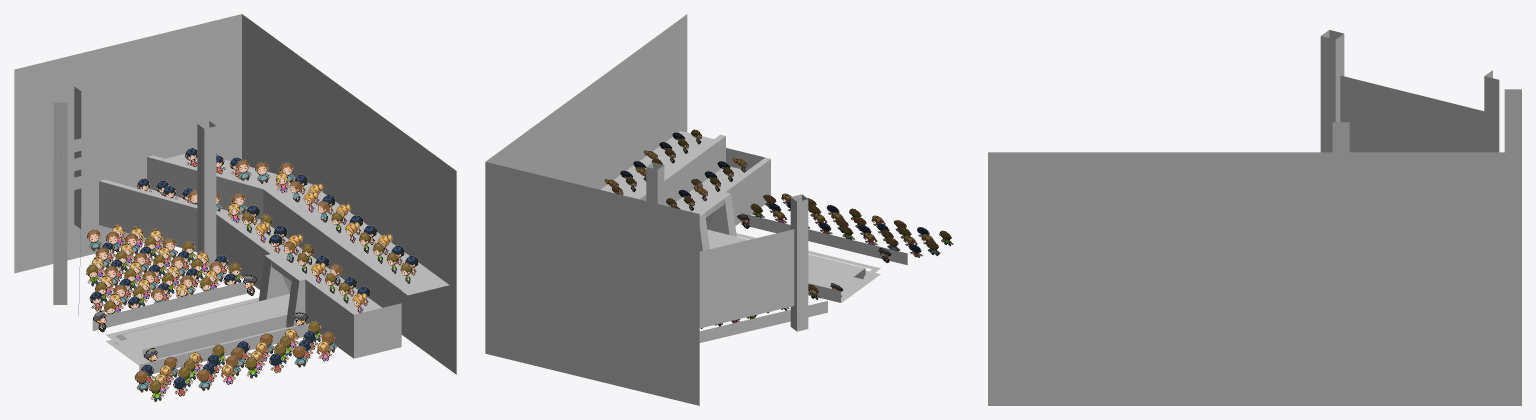
Rendered from PKMN-WT2-1.obj.
The picture shows the model from 3 angles, left to right: view 1: azimuth 30°, elevation 25°; view 2: azimuth 150°, elevation 25°; view 3: azimuth 270°, elevation 25°; orthographic projection. The views are drawn at different scales.
Visible parts, largest first — view 1: in79yuka01_lay0_QUADS_VisGroup0, in79kabe01_lay0_QUADS_VisGroup0, in79_fan1_lay0_QUADS_VisGroup0, in79tou01_lay0_QUADS_VisGroup0, in79yuka02_lay0_QUADS_VisGroup0, in79_fan2_lay0_QUADS_VisGroup0, in79_fan3_lay0_QUADS_VisGroup0, in79light03_lay0_QUADS_VisGroup0, in79saku01_lay0_QUADS_VisGroup0, in79pol_lay0_QUADS_VisGroup0; view 2: in79yuka01_lay0_QUADS_VisGroup0, in79tv_anim1_lay0_QUADS_VisGroup0, in79kabe01_lay0_QUADS_VisGroup0, in79saku01_lay0_QUADS_VisGroup0, in79_fan2_lay0_QUADS_VisGroup0, in79tou01_lay0_QUADS_VisGroup0, in79_fan3_lay0_QUADS_VisGroup0, in79yuka02_lay0_QUADS_VisGroup0; view 3: in79yuka01_lay0_QUADS_VisGroup0, in79tv_anim1_lay0_QUADS_VisGroup0, in79tou01_lay0_QUADS_VisGroup0.
Part boxes in pixels (<box>): in79yuka01_lay0_QUADS_VisGroup0: <box>14,14,456,374</box>; in79kabe01_lay0_QUADS_VisGroup0: <box>99,155,407,358</box>; in79_fan1_lay0_QUADS_VisGroup0: <box>86,148,295,314</box>; in79tou01_lay0_QUADS_VisGroup0: <box>53,86,216,304</box>; in79yuka02_lay0_QUADS_VisGroup0: <box>106,294,305,363</box>; in79_fan2_lay0_QUADS_VisGroup0: <box>134,320,336,402</box>; in79_fan3_lay0_QUADS_VisGroup0: <box>241,174,418,313</box>; in79light03_lay0_QUADS_VisGroup0: <box>72,97,193,190</box>; in79saku01_lay0_QUADS_VisGroup0: <box>78,217,309,373</box>; in79pol_lay0_QUADS_VisGroup0: <box>93,275,307,361</box>; in79yuka01_lay0_QUADS_VisGroup0: <box>485,14,880,405</box>; in79tv_anim1_lay0_QUADS_VisGroup0: <box>699,229,794,328</box>; in79kabe01_lay0_QUADS_VisGroup0: <box>634,134,770,251</box>; in79saku01_lay0_QUADS_VisGroup0: <box>699,213,907,342</box>; in79_fan2_lay0_QUADS_VisGroup0: <box>750,193,953,257</box>; in79tou01_lay0_QUADS_VisGroup0: <box>646,162,808,331</box>; in79_fan3_lay0_QUADS_VisGroup0: <box>604,129,746,210</box>; in79yuka02_lay0_QUADS_VisGroup0: <box>707,229,880,297</box>; in79yuka01_lay0_QUADS_VisGroup0: <box>988,152,1521,405</box>; in79tv_anim1_lay0_QUADS_VisGroup0: <box>1340,75,1484,152</box>; in79tou01_lay0_QUADS_VisGroup0: <box>1320,30,1521,152</box>.
Bounding box in the file's own units: 400 × 260 × 496.
